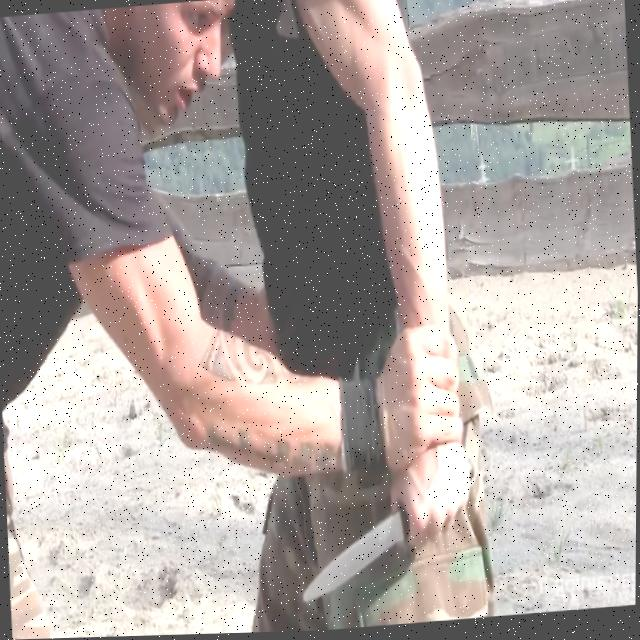knife: (297, 499, 414, 604)
